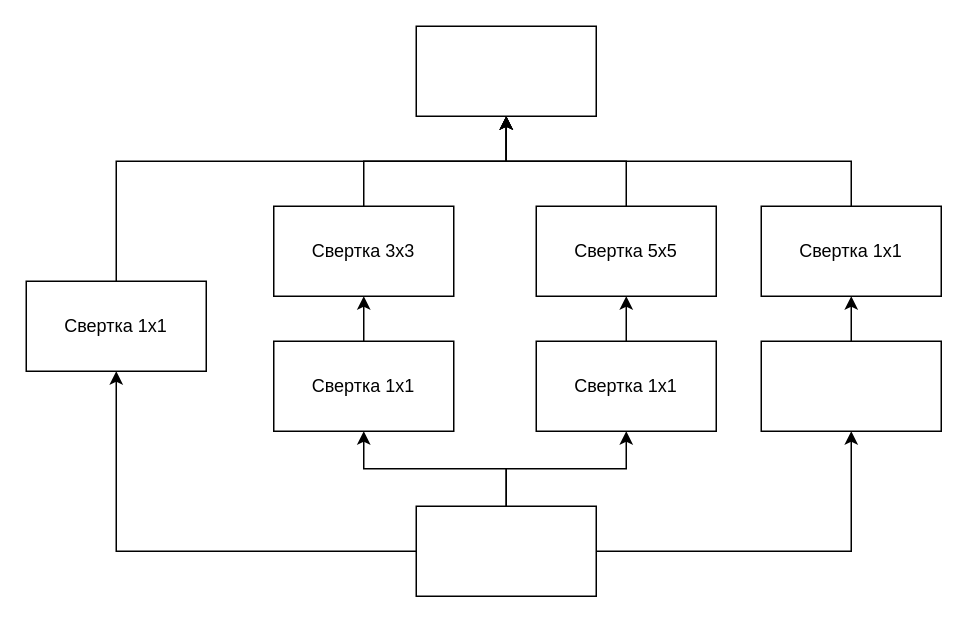
This 968x623 diagram has some shape labels left out. Here are the shapes that lost their labels. From the top down, the centre of each, then its label:
[505,70]: Конкатенация фильтров
[850,385]: Max Pooling 3х3
[505,550]: Предыдущий слой
